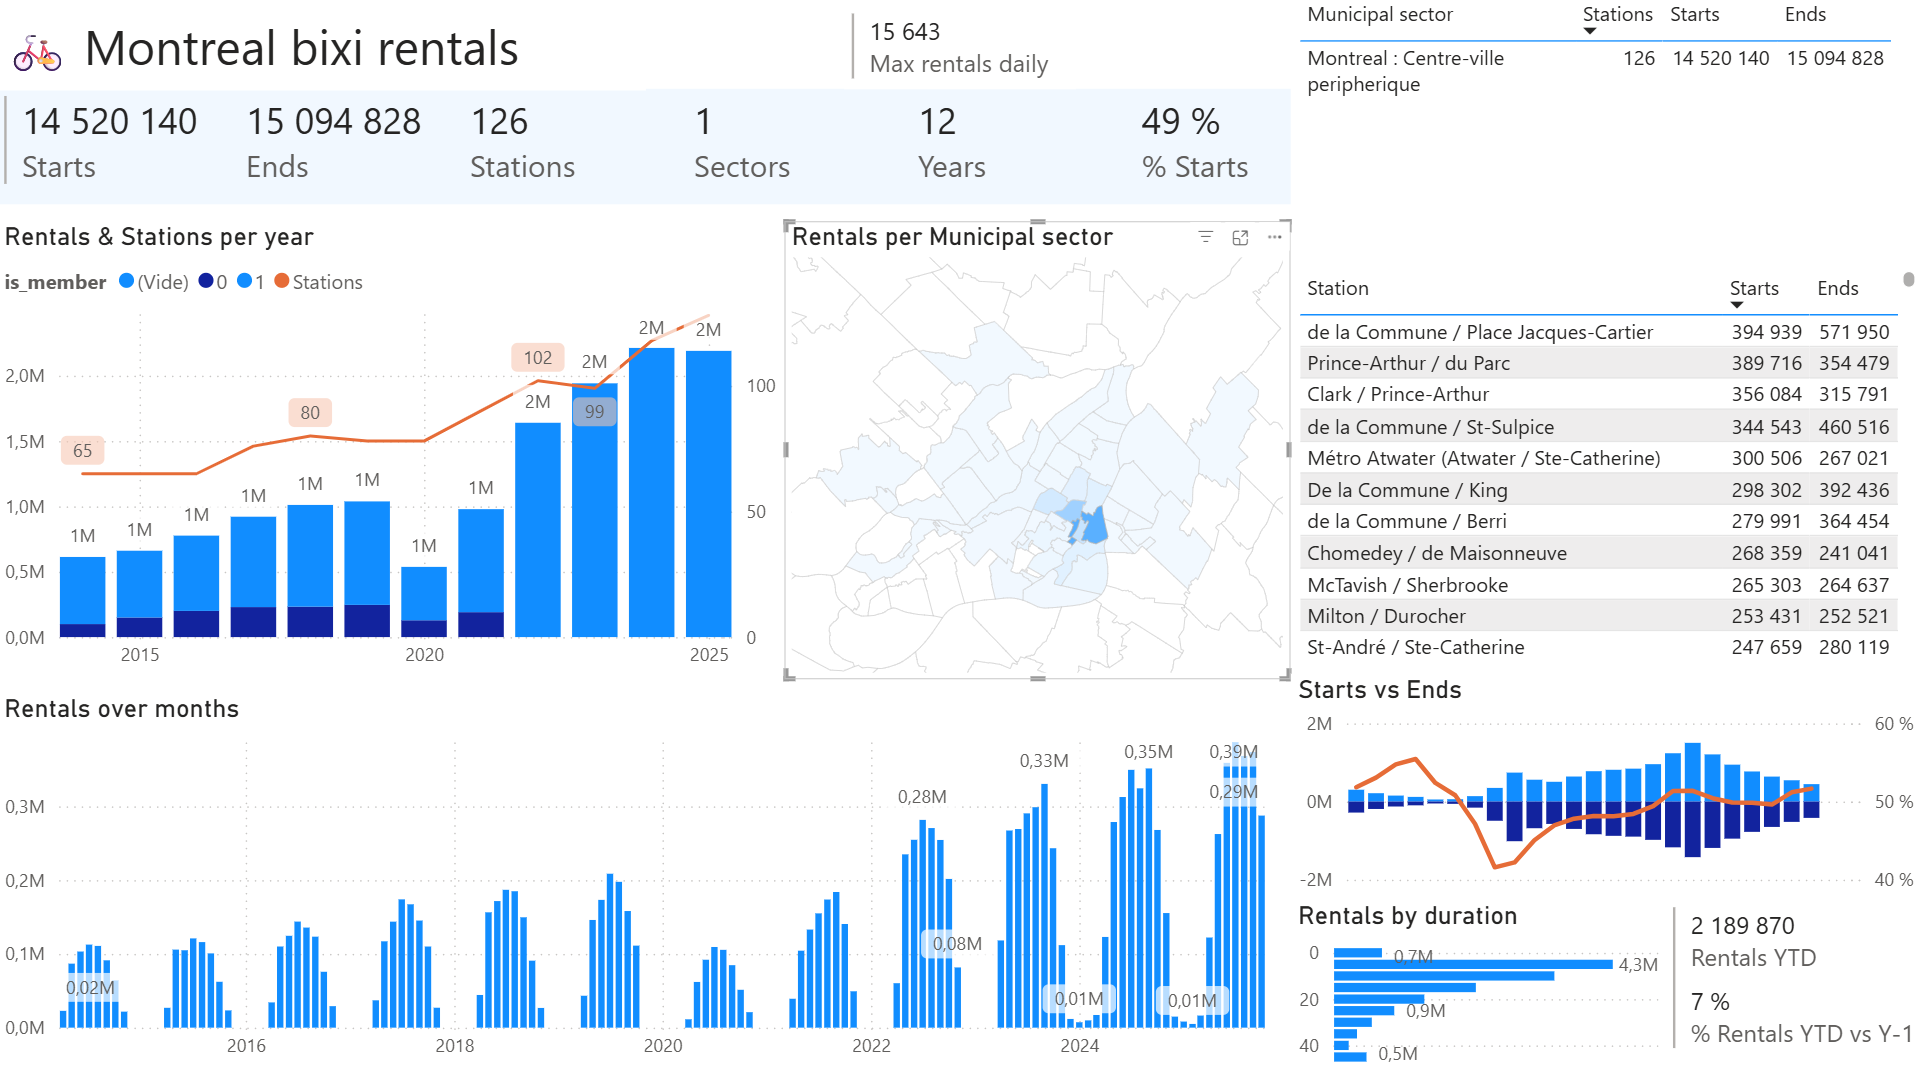

Layout of this report page (visuals, bound fields, positions):
{"tool":"powerbi","page":{"name":"Montréal Bixi Rentals","canvas":[1280,720],"ordinal":0},"visuals":[{"type":"multiRowCard","fields":{"Values":["stations_yearly.Starts","stations_yearly.Ends","stations_yearly.Stations","stations_yearly.Sectors","Count(stations_yearly.year)","stations_yearly.Starts / Ends"]},"box":[0,65.9,914.7,76.9],"z":0},{"type":"textbox","box":[0,5,431.1,59.8],"z":1000},{"type":"tableEx","fields":{"Values":["secteurs_municipaux_od_2013.sector_name","stations_yearly.Stations","stations_yearly.Starts","stations_yearly.Ends"]},"box":[859.7,0,420.3,181.7],"z":2000},{"type":"tableEx","fields":{"Values":["stations_yearly.name1","stations_yearly.Starts","stations_yearly.Ends"]},"box":[859.7,181.7,420.3,264.8],"z":3000},{"type":"lineStackedColumnComboChart","title":"Rentals & Stations per year","fields":{"Category":["dim_date.dt_annee"],"Series":["raw_bixi_rentals_2014_2020.is_member"],"Y":["raw_bixi_rentals_2014_2020.Rentals"],"Y2":["raw_bixi_rentals_2014_2020.Stations"]},"box":[0,153.8,523.3,306.3],"z":4000},{"type":"shapeMap","title":"Rentals per Municipal sector","fields":{"Category":["secteurs_municipaux_od_2013.sector_name"],"Value":["stations_yearly.Starts + Ends"]},"box":[523.3,153.8,336.5,304.9],"z":5000},{"type":"lineClusteredColumnComboChart","title":"Rentals over months","fields":{"Category":["dim_date.dt_mois"],"Y":["raw_bixi_rentals_2014_2020.Rentals"]},"box":[0,466.6,859.7,252.9],"z":6000},{"type":"lineStackedColumnComboChart","title":"Starts vs Ends","fields":{"Category":["raw_bixi_rentals_2014_2020.Start hour"],"Y":["stations_yearly.Starts","stations_yearly.-Ends"],"Y2":["stations_yearly.% Starts"]},"box":[859.7,454.6,420.3,151.1],"z":7000},{"type":"clusteredBarChart","title":"Rentals by duration","fields":{"Category":["raw_bixi_rentals_2014_2020.duration_5min_group"],"Y":["stations_yearly.Starts"]},"box":[859.5,604.8,249.6,115.6],"z":8000},{"type":"multiRowCard","fields":{"Values":["raw_bixi_rentals_2014_2020.Rentals YTD","raw_bixi_rentals_2014_2020.% Rentals YTD vs Y-1"]},"box":[1109.1,604.8,170.9,115.6],"z":9000},{"type":"multiRowCard","fields":{"Values":["raw_bixi_rentals_2014_2020.Max rentals daily"]},"box":[563.1,11,153.8,54.9],"z":10000},{"type":"image","box":[375.5,1.7,154.5,65.6],"z":10001}]}

Visuals, with their boxes in screenshot pixels (x1, y1, x2, y2), scaled from the page's 1280x720 canvas onto the 1918x1068 screenshot:
multiRowCard - stations_yearly.Starts x stations_yearly.Ends: {"x1": 0, "y1": 98, "x2": 1371, "y2": 212}
textbox: {"x1": 0, "y1": 7, "x2": 646, "y2": 96}
tableEx - secteurs_municipaux_od_2013.sector_name x stations_yearly.Stations: {"x1": 1288, "y1": 0, "x2": 1917, "y2": 270}
tableEx - stations_yearly.name1 x stations_yearly.Starts: {"x1": 1288, "y1": 270, "x2": 1917, "y2": 662}
"Rentals & Stations per year" lineStackedColumnComboChart: {"x1": 0, "y1": 228, "x2": 784, "y2": 682}
"Rentals per Municipal sector" shapeMap: {"x1": 784, "y1": 228, "x2": 1288, "y2": 680}
"Rentals over months" lineClusteredColumnComboChart: {"x1": 0, "y1": 692, "x2": 1288, "y2": 1067}
"Starts vs Ends" lineStackedColumnComboChart: {"x1": 1288, "y1": 674, "x2": 1917, "y2": 898}
"Rentals by duration" clusteredBarChart: {"x1": 1288, "y1": 897, "x2": 1662, "y2": 1067}
multiRowCard - raw_bixi_rentals_2014_2020.Rentals YTD x raw_bixi_rentals_2014_2020.% Rentals YTD vs Y-1: {"x1": 1662, "y1": 897, "x2": 1917, "y2": 1067}
multiRowCard - raw_bixi_rentals_2014_2020.Max rentals daily: {"x1": 844, "y1": 16, "x2": 1074, "y2": 98}
image: {"x1": 563, "y1": 3, "x2": 794, "y2": 100}
